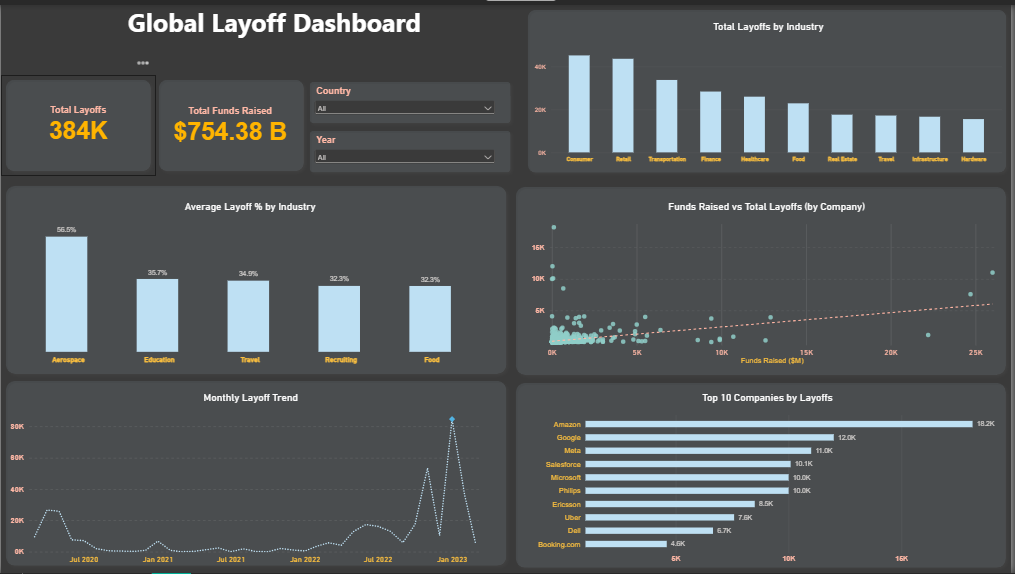

What the dashboard file says about the page in this screenshot:
{"tool":"powerbi","page":{"name":"Final Dashboard","canvas":[1920,1080],"ordinal":0},"visuals":[{"type":"shape","box":[0,706,970,370],"z":0},{"type":"shape","box":[0,334,970,376],"z":1000},{"type":"shape","box":[970,710,950,370],"z":2000},{"type":"shape","box":[970,336,950,376],"z":2500},{"type":"shape","box":[992,0,928,328],"z":3000},{"type":"textbox","box":[0,0,998,128],"z":5000},{"type":"shape","box":[0,134,294,192],"z":6000},{"type":"shape","box":[578.4,136.7,400,97],"z":7000},{"type":"shape","box":[290,134,294,192],"z":8000},{"type":"shape","box":[577.5,229.8,400,97.3],"z":9000},{"type":"cardVisual","fields":{"Data":["layoffs_analysis.Total Funds Raised (B)"]},"box":[312.7,153.6,248,153],"z":10000},{"type":"cardVisual","fields":{"Data":["Sum(layoffs_analysis.total_laid_off)"]},"box":[22.7,152.7,248,153],"z":11000},{"type":"barChart","title":"Top 10 Companies by Layoffs","fields":{"Category":["layoffs_analysis.company"],"Y":["Sum(layoffs_analysis.total_laid_off)"]},"box":[996,720,922,360],"z":12000},{"type":"lineChart","title":"Monthly Layoff Trend","fields":{"Category":["layoffs_analysis.date.Variation.Date Hierarchy.Year","layoffs_analysis.date.Variation.Date Hierarchy.Quarter","layoffs_analysis.date.Variation.Date Hierarchy.Month"],"Y":["Sum(layoffs_analysis.total_laid_off)"]},"box":[2,720,946,360],"z":13000},{"type":"columnChart","title":"Average Layoff % by Industry","fields":{"Category":["layoffs_analysis.industry"],"Y":["Avg(layoffs_analysis.Percentage_Laidoff_Real)"]},"box":[0,358,948,342],"z":14000},{"type":"scatterChart","title":"Funds Raised vs Total Layoffs (by Company)","fields":{"X":["Max(layoffs_analysis.funds_raised_millions)"],"Y":["Sum(layoffs_analysis.total_laid_off)"],"Category":["layoffs_analysis.company"]},"box":[992,358,926,342],"z":15000},{"type":"columnChart","title":"Total Layoffs by Industry","fields":{"Category":["layoffs_analysis.industry"],"Y":["Sum(layoffs_analysis.total_laid_off)"]},"box":[998,16,922,302],"z":16000},{"type":"slicer","title":"Layoff Type","fields":{"Values":["layoffs_analysis.country"]},"box":[592.2,153.6,370,56.7],"z":17000},{"type":"slicer","title":"Layoff Type","fields":{"Values":["layoffs_analysis.date.Variation.Date Hierarchy.Year"]},"box":[592,248,370,57],"z":18000}]}

Visuals, with their boxes in screenshot pixels (x1, y1, x2, y2), scaled from the page's 1920x1080 canvas onto the 1015x574 screenshot:
shape: {"left": 0, "top": 375, "right": 513, "bottom": 572}
shape: {"left": 0, "top": 178, "right": 513, "bottom": 377}
shape: {"left": 513, "top": 377, "right": 1014, "bottom": 573}
shape: {"left": 513, "top": 179, "right": 1014, "bottom": 378}
shape: {"left": 524, "top": 0, "right": 1014, "bottom": 174}
textbox: {"left": 0, "top": 0, "right": 528, "bottom": 68}
shape: {"left": 0, "top": 71, "right": 155, "bottom": 173}
shape: {"left": 306, "top": 73, "right": 517, "bottom": 124}
shape: {"left": 153, "top": 71, "right": 309, "bottom": 173}
shape: {"left": 305, "top": 122, "right": 517, "bottom": 174}
cardVisual - layoffs_analysis.Total Funds Raised (B): {"left": 165, "top": 82, "right": 296, "bottom": 163}
cardVisual - Sum(layoffs_analysis.total_laid_off): {"left": 12, "top": 81, "right": 143, "bottom": 162}
"Top 10 Companies by Layoffs" barChart: {"left": 527, "top": 383, "right": 1014, "bottom": 573}
"Monthly Layoff Trend" lineChart: {"left": 1, "top": 383, "right": 501, "bottom": 573}
"Average Layoff % by Industry" columnChart: {"left": 0, "top": 190, "right": 501, "bottom": 372}
"Funds Raised vs Total Layoffs (by Company)" scatterChart: {"left": 524, "top": 190, "right": 1014, "bottom": 372}
"Total Layoffs by Industry" columnChart: {"left": 528, "top": 9, "right": 1014, "bottom": 169}
"Layoff Type" slicer: {"left": 313, "top": 82, "right": 509, "bottom": 112}
"Layoff Type" slicer: {"left": 313, "top": 132, "right": 509, "bottom": 162}
